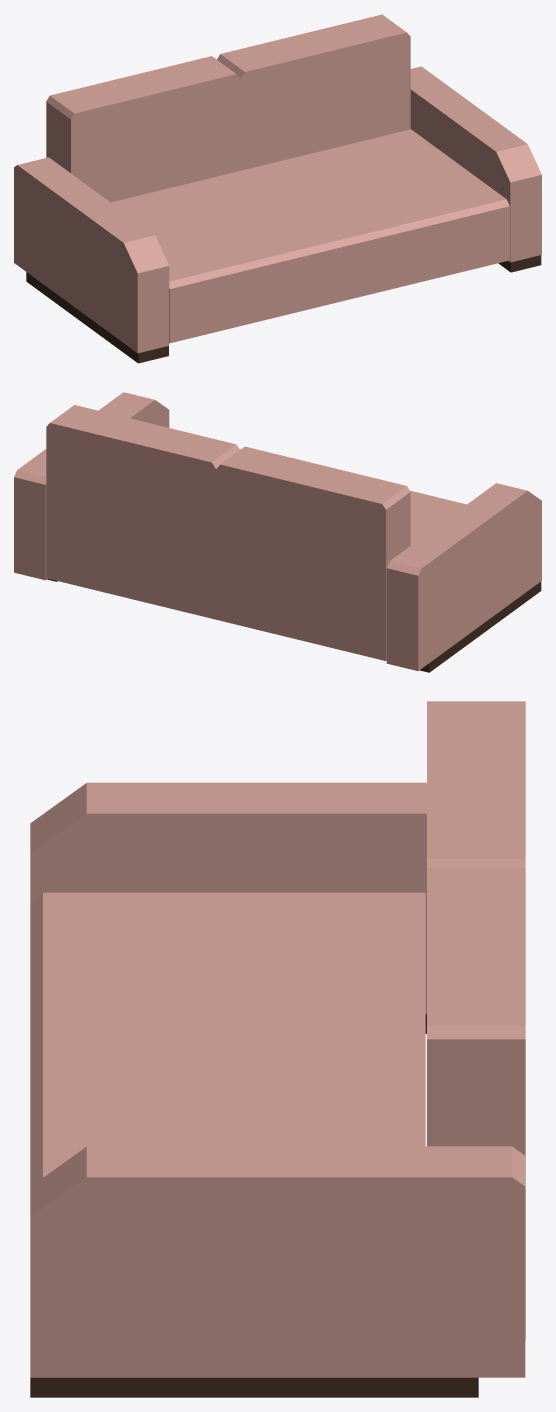
The model's file is Accesories_Sofa.005.glb.
3 views of the same model, one above another, from view 1: azimuth 30°, elevation 25°; view 2: azimuth 150°, elevation 25°; view 3: azimuth 270°, elevation 25° (orthographic). The views are drawn at different scales.
Parts seen in each view (by area): view 1: Accesories_Sofa.005; view 2: Accesories_Sofa.005; view 3: Accesories_Sofa.005.
Part boxes in pixels (left/top/right/bottom): Accesories_Sofa.005: left=14, top=14, right=541, bottom=363; Accesories_Sofa.005: left=14, top=392, right=541, bottom=672; Accesories_Sofa.005: left=30, top=701, right=525, bottom=1397.
Size of the model in its own units: 1.88 by 0.7512 by 0.9991.
1 material, 1 textured.
